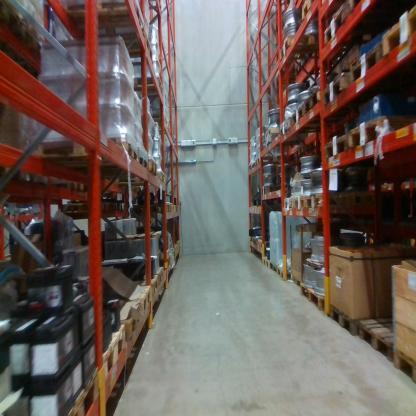pallets: (317, 9, 416, 119), (299, 281, 416, 359), (96, 283, 159, 366), (322, 108, 391, 174), (106, 136, 166, 180), (283, 91, 327, 132), (393, 347, 415, 384)
